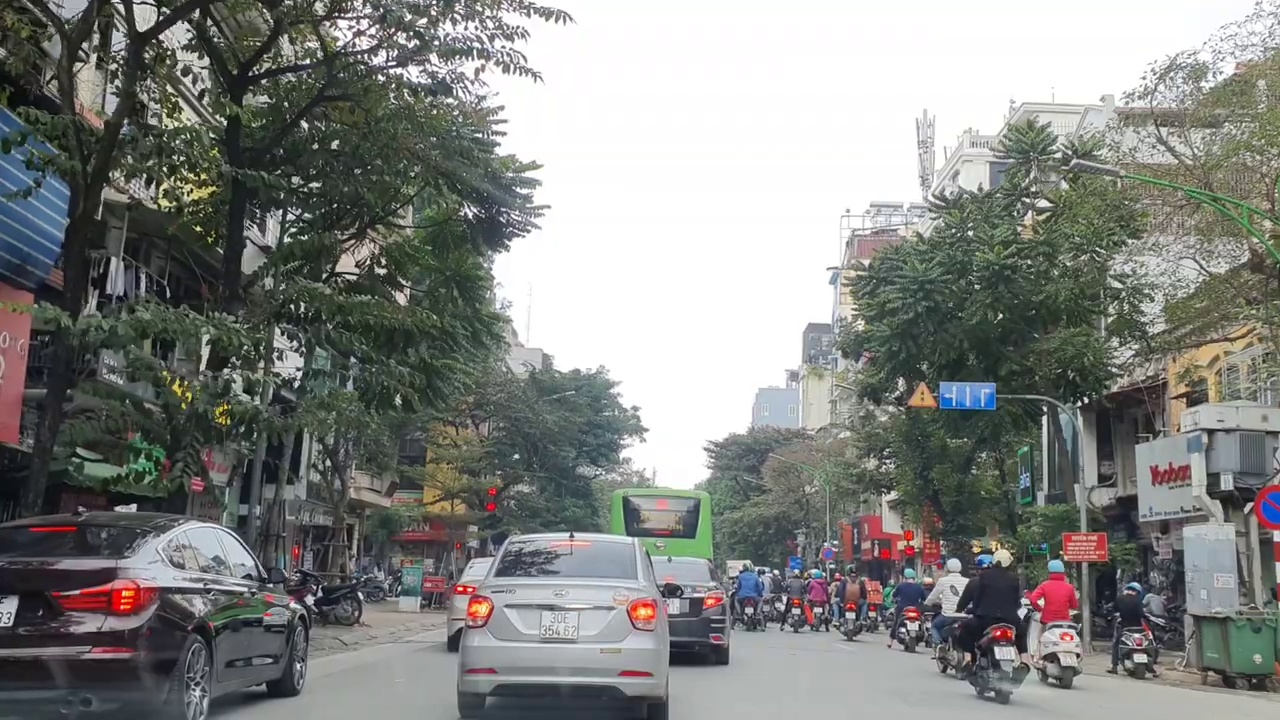person: (993, 644, 1016, 660), (1059, 651, 1078, 667), (1130, 650, 1150, 663), (905, 619, 920, 631), (842, 610, 854, 620), (790, 605, 802, 615), (867, 608, 876, 618), (812, 605, 822, 614), (744, 607, 755, 614), (762, 603, 771, 611)
